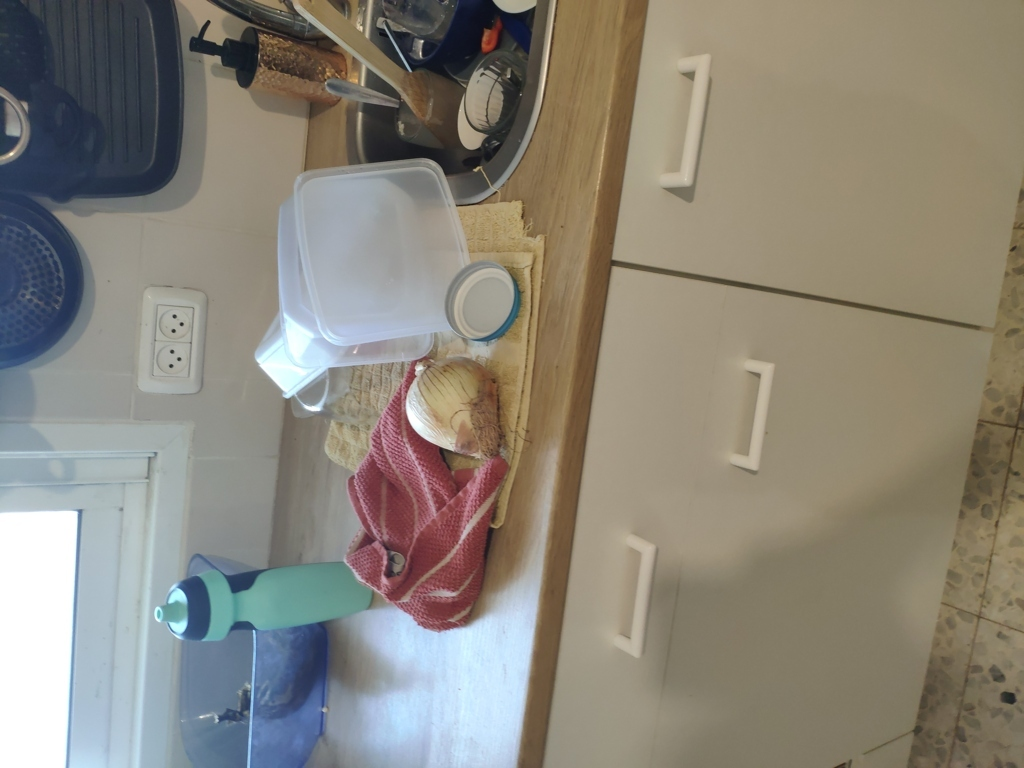Onion: (396, 364, 519, 474)
